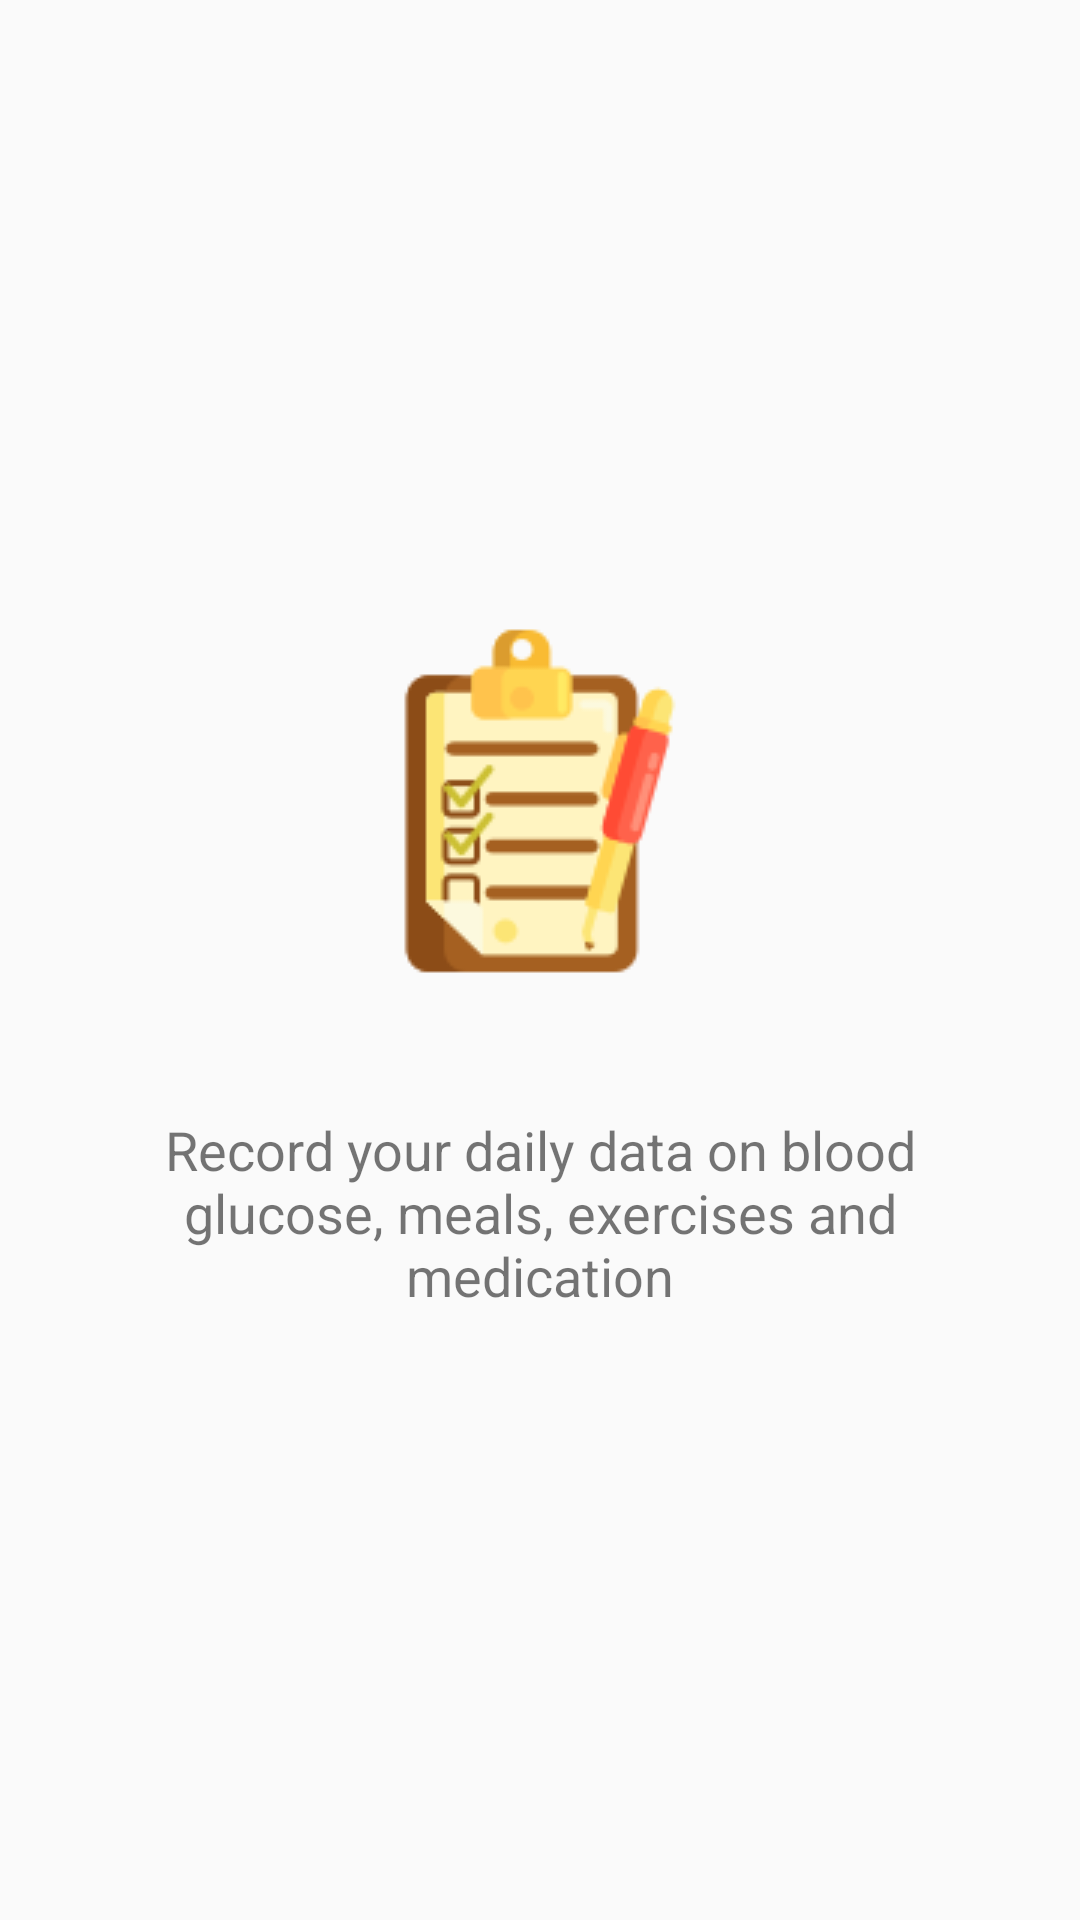

Named icons in this screenshot (1080w x 1920h) and their bounding boxes, bbox=[x1, y1, x2, y2]:
logs: bbox=[404, 629, 675, 973]
